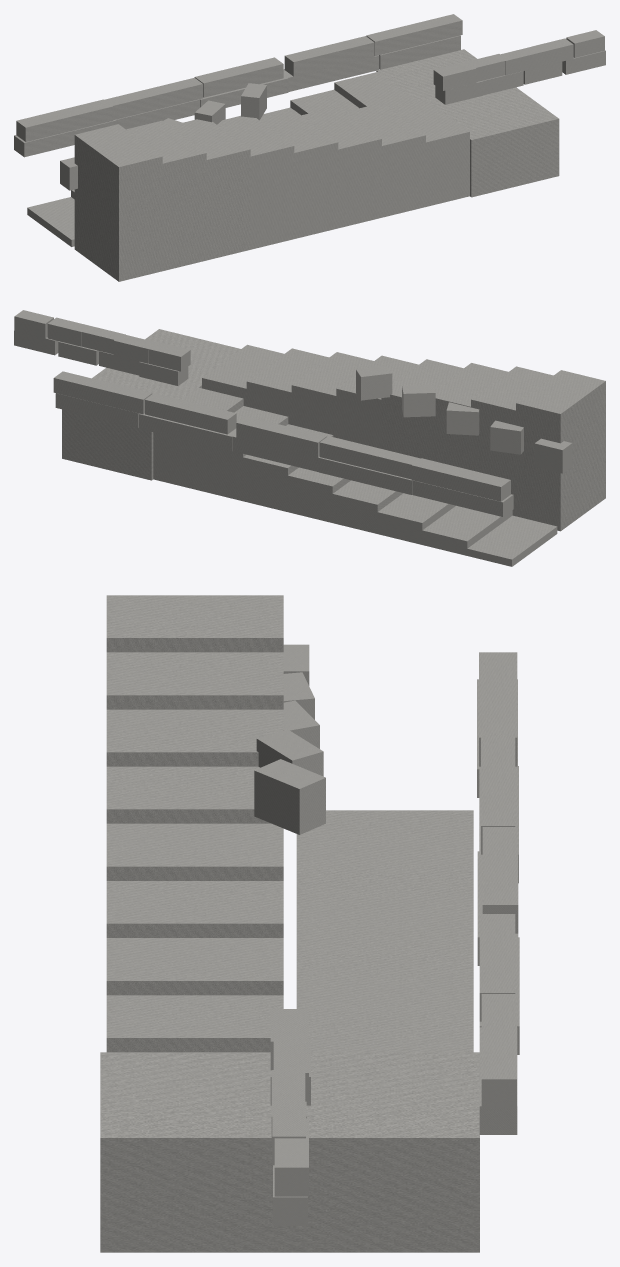
The model's file is andean-terraces-and-stone-village-switchback-ramp-f69f2502__38240.glb.
3 views of the same model, one above another, from view 1: azimuth 30°, elevation 25°; view 2: azimuth 150°, elevation 25°; view 3: azimuth 270°, elevation 25° (orthographic). The views are drawn at different scales.
Visible parts, largest first — view 1: switchback-ramp-stone; view 2: switchback-ramp-stone; view 3: switchback-ramp-stone.
Boxes of the visible parts, x1,y1,x2,y2 form: switchback-ramp-stone: (14, 14, 605, 281); switchback-ramp-stone: (14, 310, 605, 566); switchback-ramp-stone: (100, 595, 519, 1252).
Bounding box in the file's own units: 9.79 × 2 × 3.31.
1 material, 1 textured.
